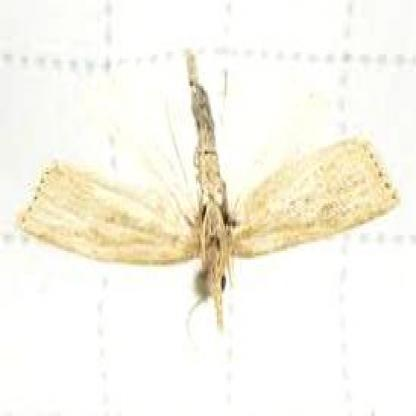stem-borer: (19, 64, 402, 332)
